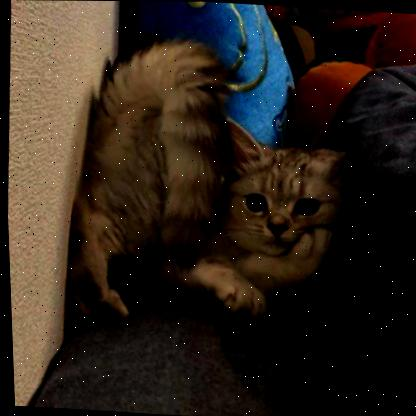cat: (59, 28, 364, 341)
